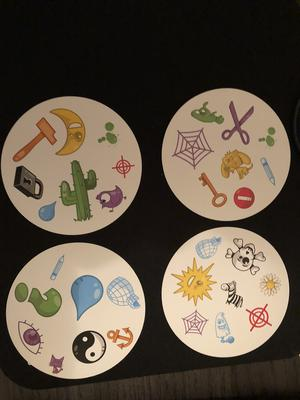ancre: (104, 322, 137, 348)
cactus: (57, 159, 99, 222)
cadenas: (10, 162, 45, 203)
chat: (47, 353, 66, 375)
chien: (218, 149, 254, 184)
cible: (243, 304, 275, 334), (112, 151, 136, 183)
ciseau: (221, 98, 257, 146)
cle: (197, 170, 228, 209)
crayon: (258, 154, 279, 186), (48, 252, 67, 282)
dinosore: (189, 99, 225, 128)
fantome: (211, 309, 237, 346)
fleur: (259, 268, 281, 298)
goutte: (68, 271, 104, 323), (36, 199, 59, 224)
igloo: (105, 275, 142, 310), (192, 234, 224, 262)
lune: (48, 105, 89, 157)
marteau: (11, 116, 58, 163)
oeuil: (15, 320, 45, 356)
oiseau: (95, 184, 128, 215)
point_interrogation: (13, 282, 64, 319)
sens_interdit: (229, 184, 256, 208)
soleil: (168, 257, 217, 308)
tache: (95, 120, 120, 147), (256, 125, 279, 148)
tete_mort: (223, 235, 267, 277)
toile: (171, 128, 215, 170), (180, 308, 210, 336)
ying_yang: (69, 326, 111, 362)
zebre: (219, 276, 245, 310)
